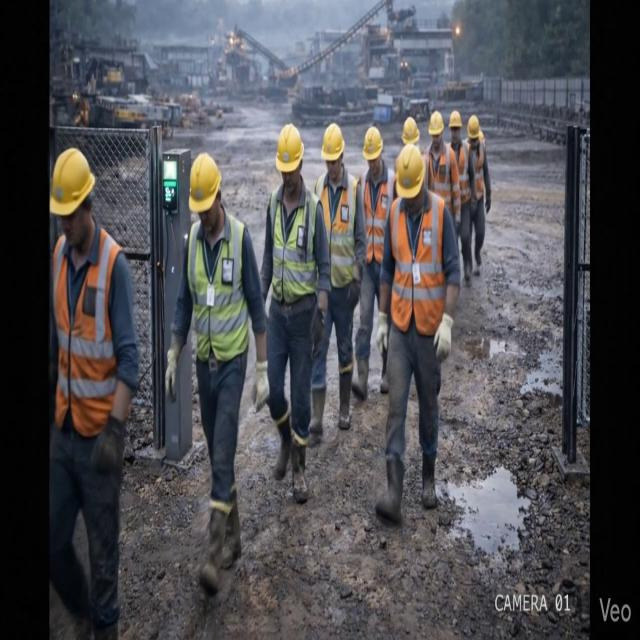Vest: (53, 228, 120, 437), (188, 213, 248, 362), (390, 193, 445, 335), (270, 187, 318, 304), (315, 173, 357, 287), (360, 168, 394, 263), (424, 142, 460, 215), (470, 142, 485, 200), (457, 142, 471, 204)
Worker: (165, 153, 268, 596), (49, 149, 138, 639), (376, 145, 460, 523), (261, 124, 330, 503), (310, 123, 366, 438), (352, 127, 396, 399), (449, 111, 477, 284), (424, 111, 460, 237), (467, 115, 490, 275), (402, 117, 419, 144)
helmet: (50, 148, 95, 215), (189, 153, 221, 213), (396, 144, 424, 199), (276, 124, 303, 172), (322, 123, 344, 161), (363, 127, 382, 160), (402, 117, 419, 143), (428, 112, 443, 135), (467, 115, 479, 139), (449, 111, 461, 128), (479, 130, 484, 142)
